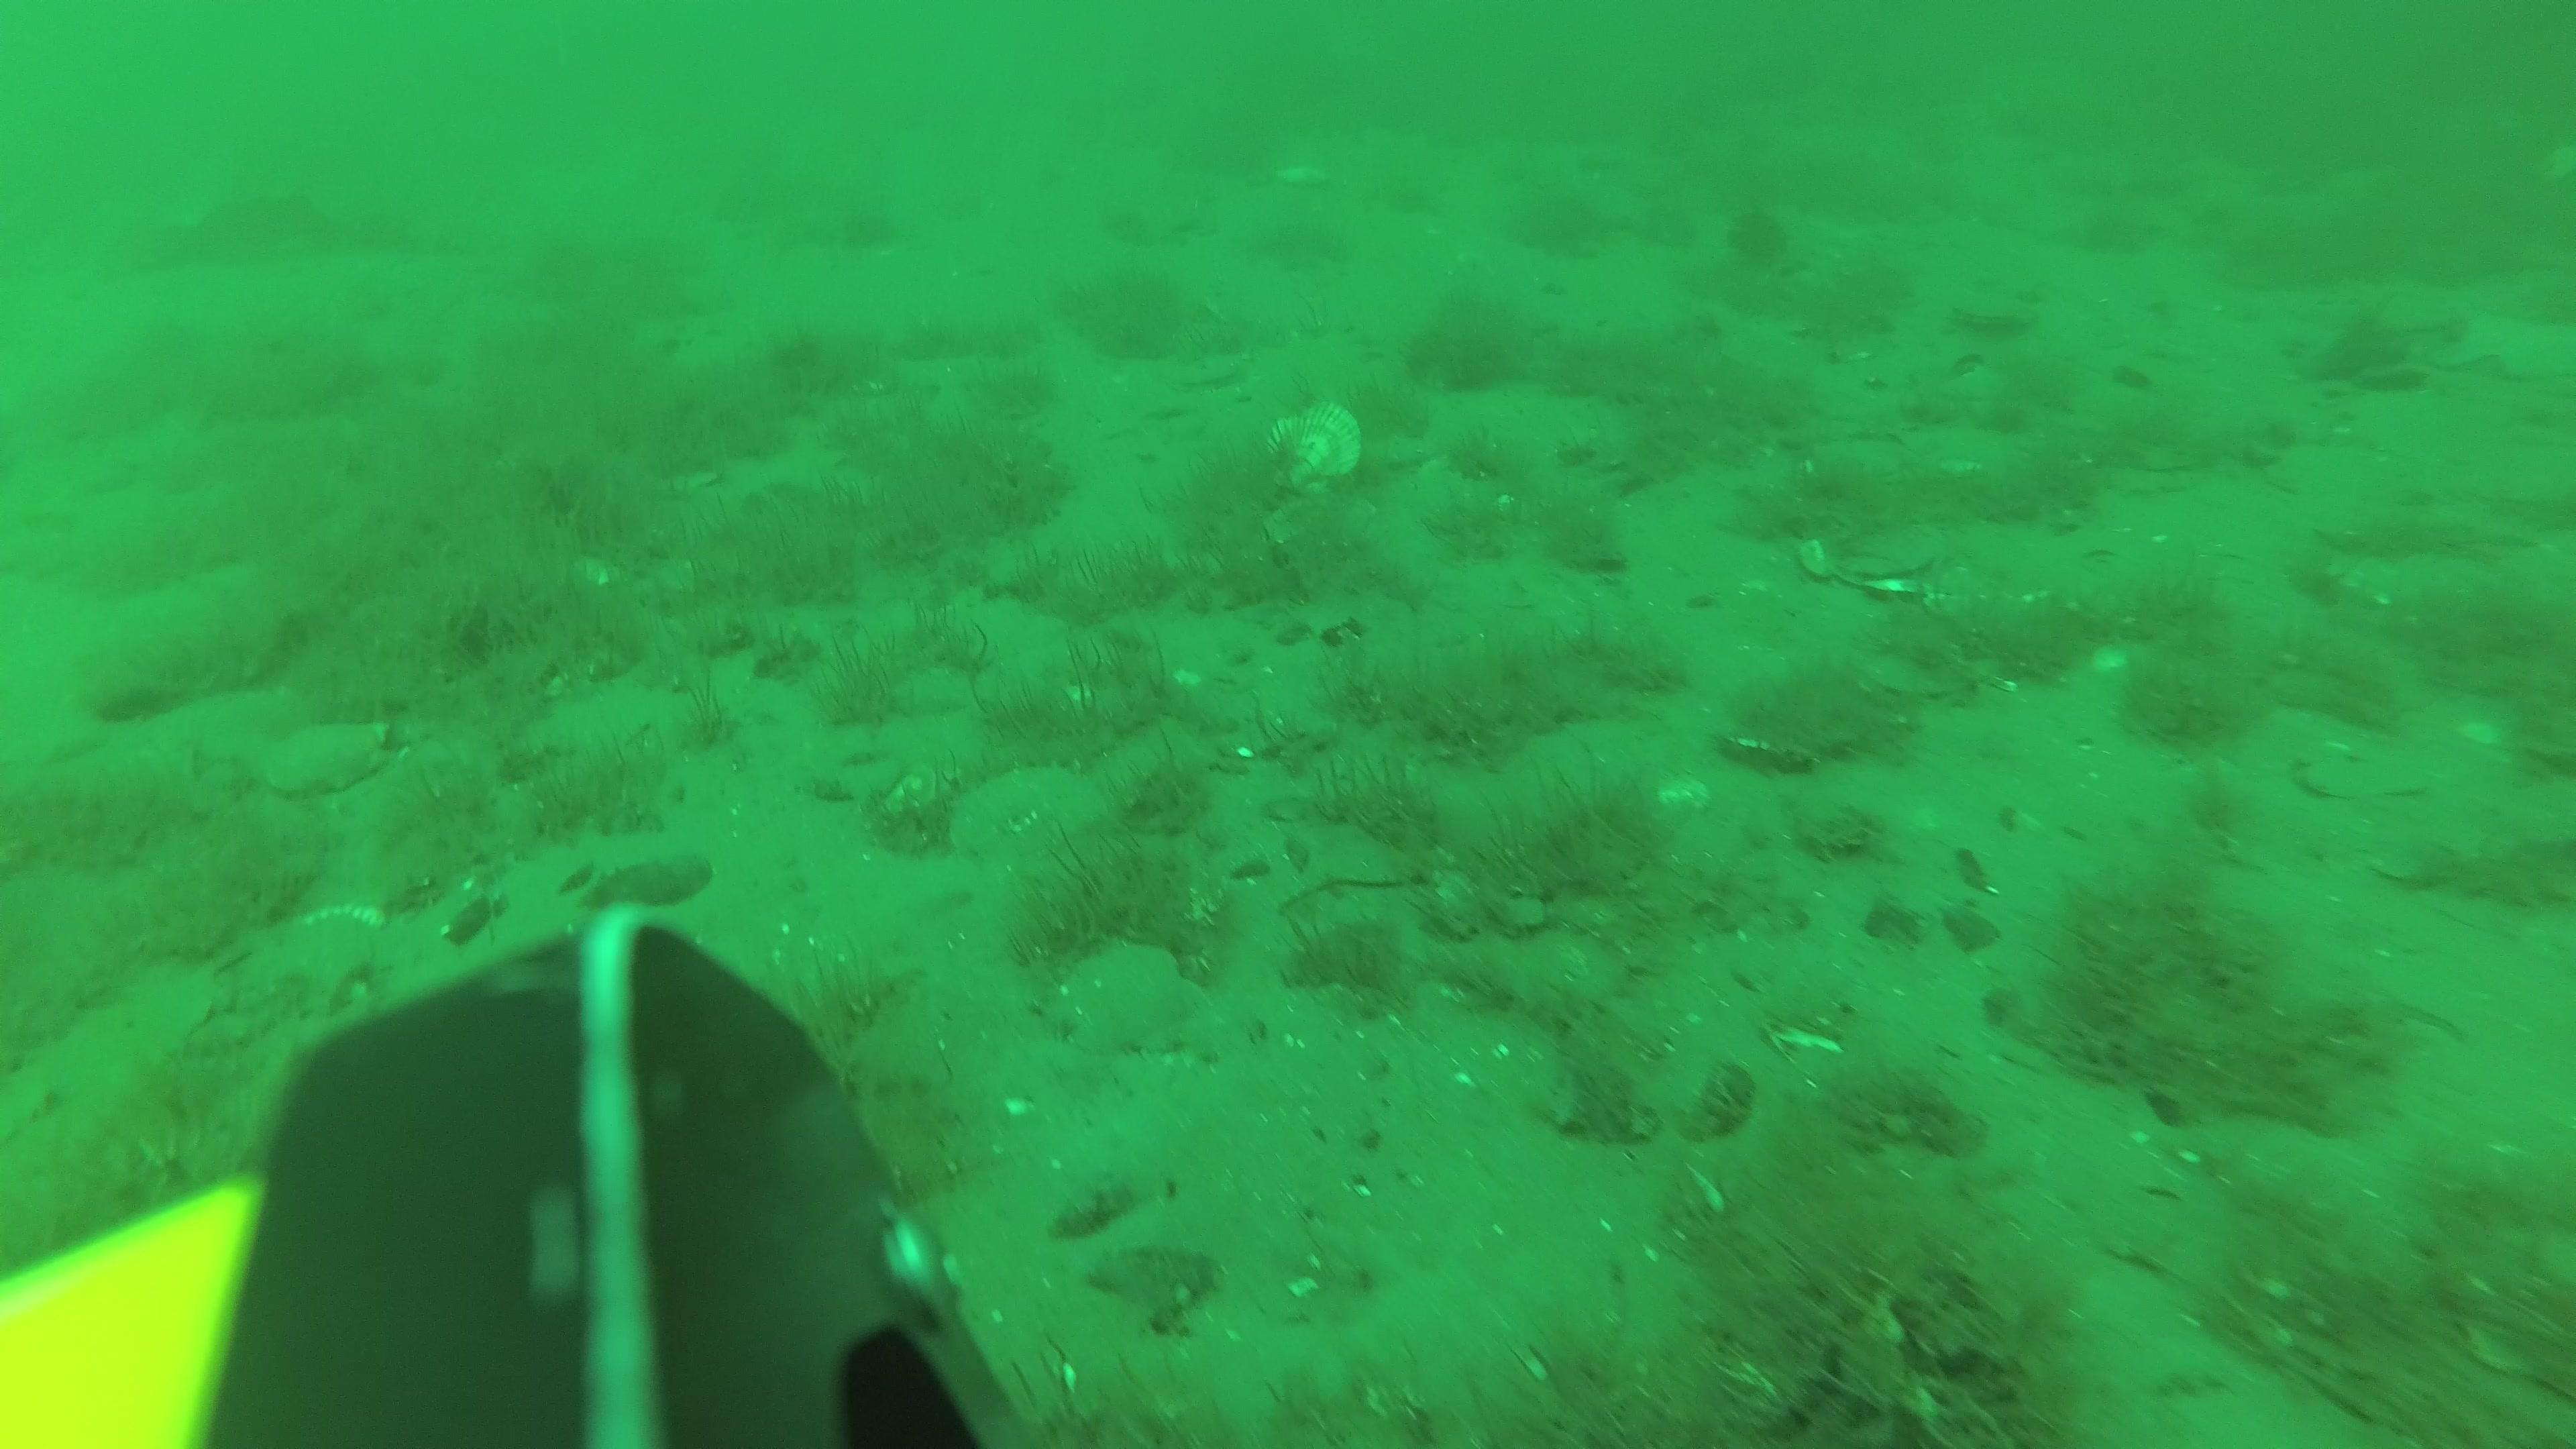scallop: (1046, 938, 1207, 1054), (1792, 520, 1936, 596), (265, 725, 400, 794), (1267, 403, 1362, 495)
